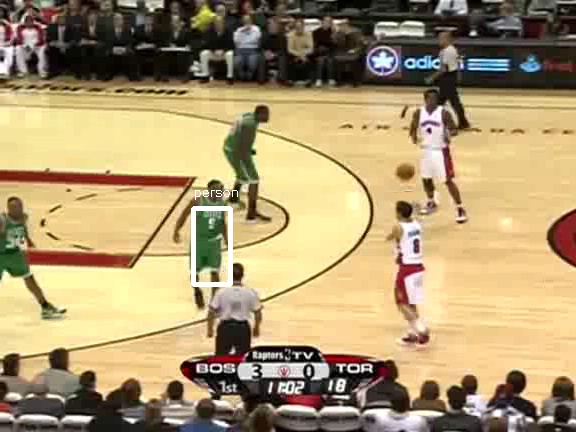person: (194, 193, 228, 274), (193, 193, 227, 274), (195, 193, 229, 274), (194, 192, 228, 273), (194, 194, 228, 275)
target_negative: (306, 4, 469, 256), (260, 38, 342, 421), (224, 179, 276, 294), (411, 336, 462, 407), (443, 161, 475, 231), (493, 62, 499, 294)
